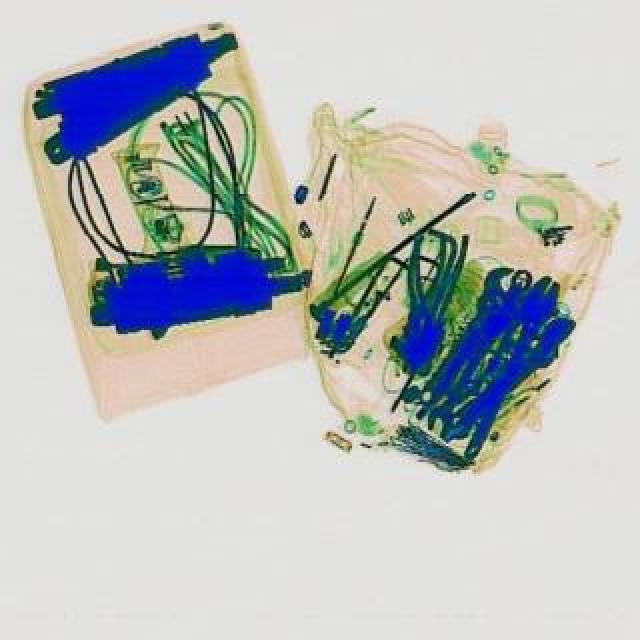scissors: (454, 274, 570, 470), (410, 260, 538, 420), (440, 318, 590, 444)
wrench: (392, 232, 456, 348)
